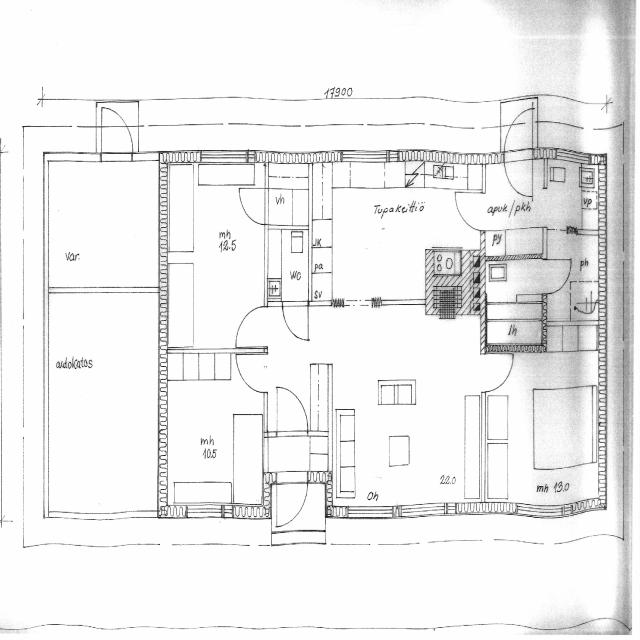door: (277, 471, 307, 527), (102, 107, 132, 158), (277, 388, 308, 437), (504, 150, 533, 202), (504, 110, 533, 162), (482, 354, 512, 392), (237, 355, 267, 393), (456, 193, 486, 230), (282, 300, 308, 342), (238, 188, 268, 224), (542, 261, 570, 293)
